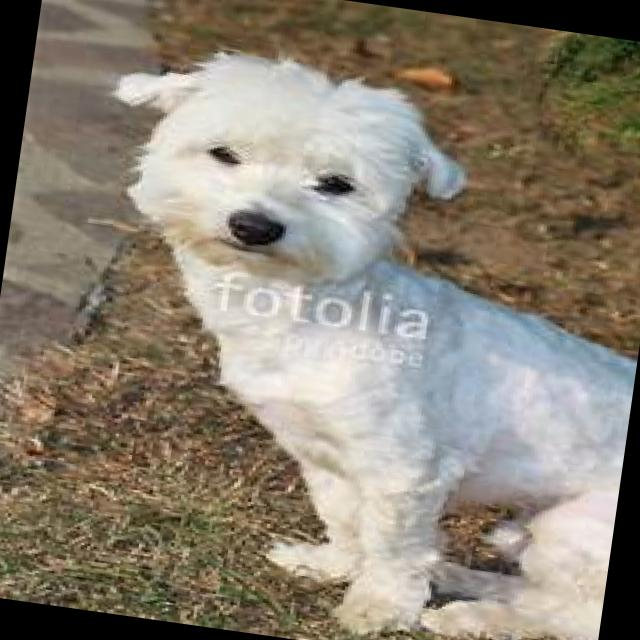animal: (39, 30, 640, 640)
